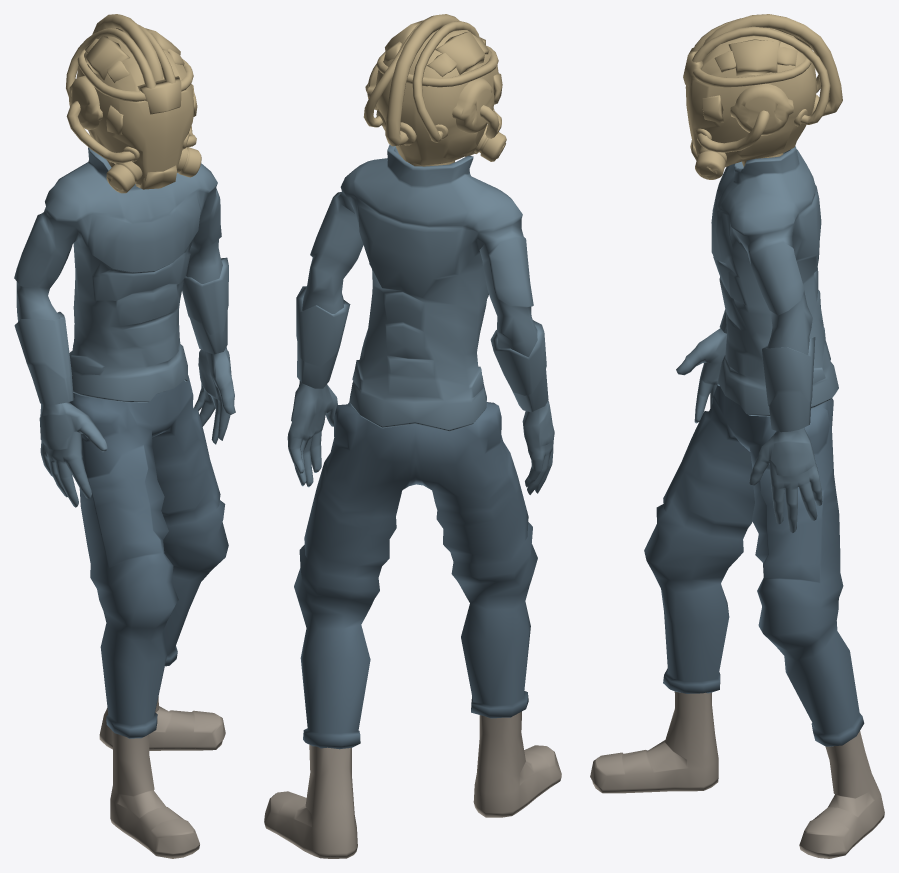
File: diver.glb
The picture shows the model from 3 angles, left to right: view 1: azimuth 30°, elevation 25°; view 2: azimuth 150°, elevation 25°; view 3: azimuth 270°, elevation 25°; orthographic projection. The views are drawn at different scales.
Size of the model in its own units: 0.3126 by 0.9784 by 0.3335.
